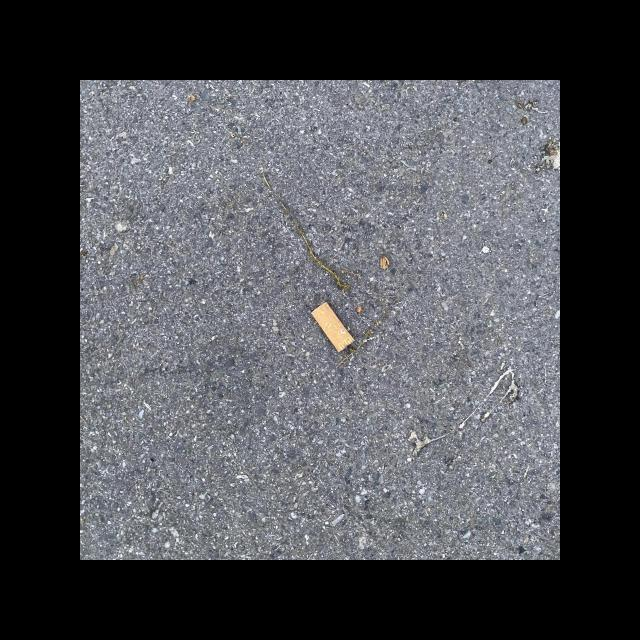cigarette: (310, 301, 356, 353)
